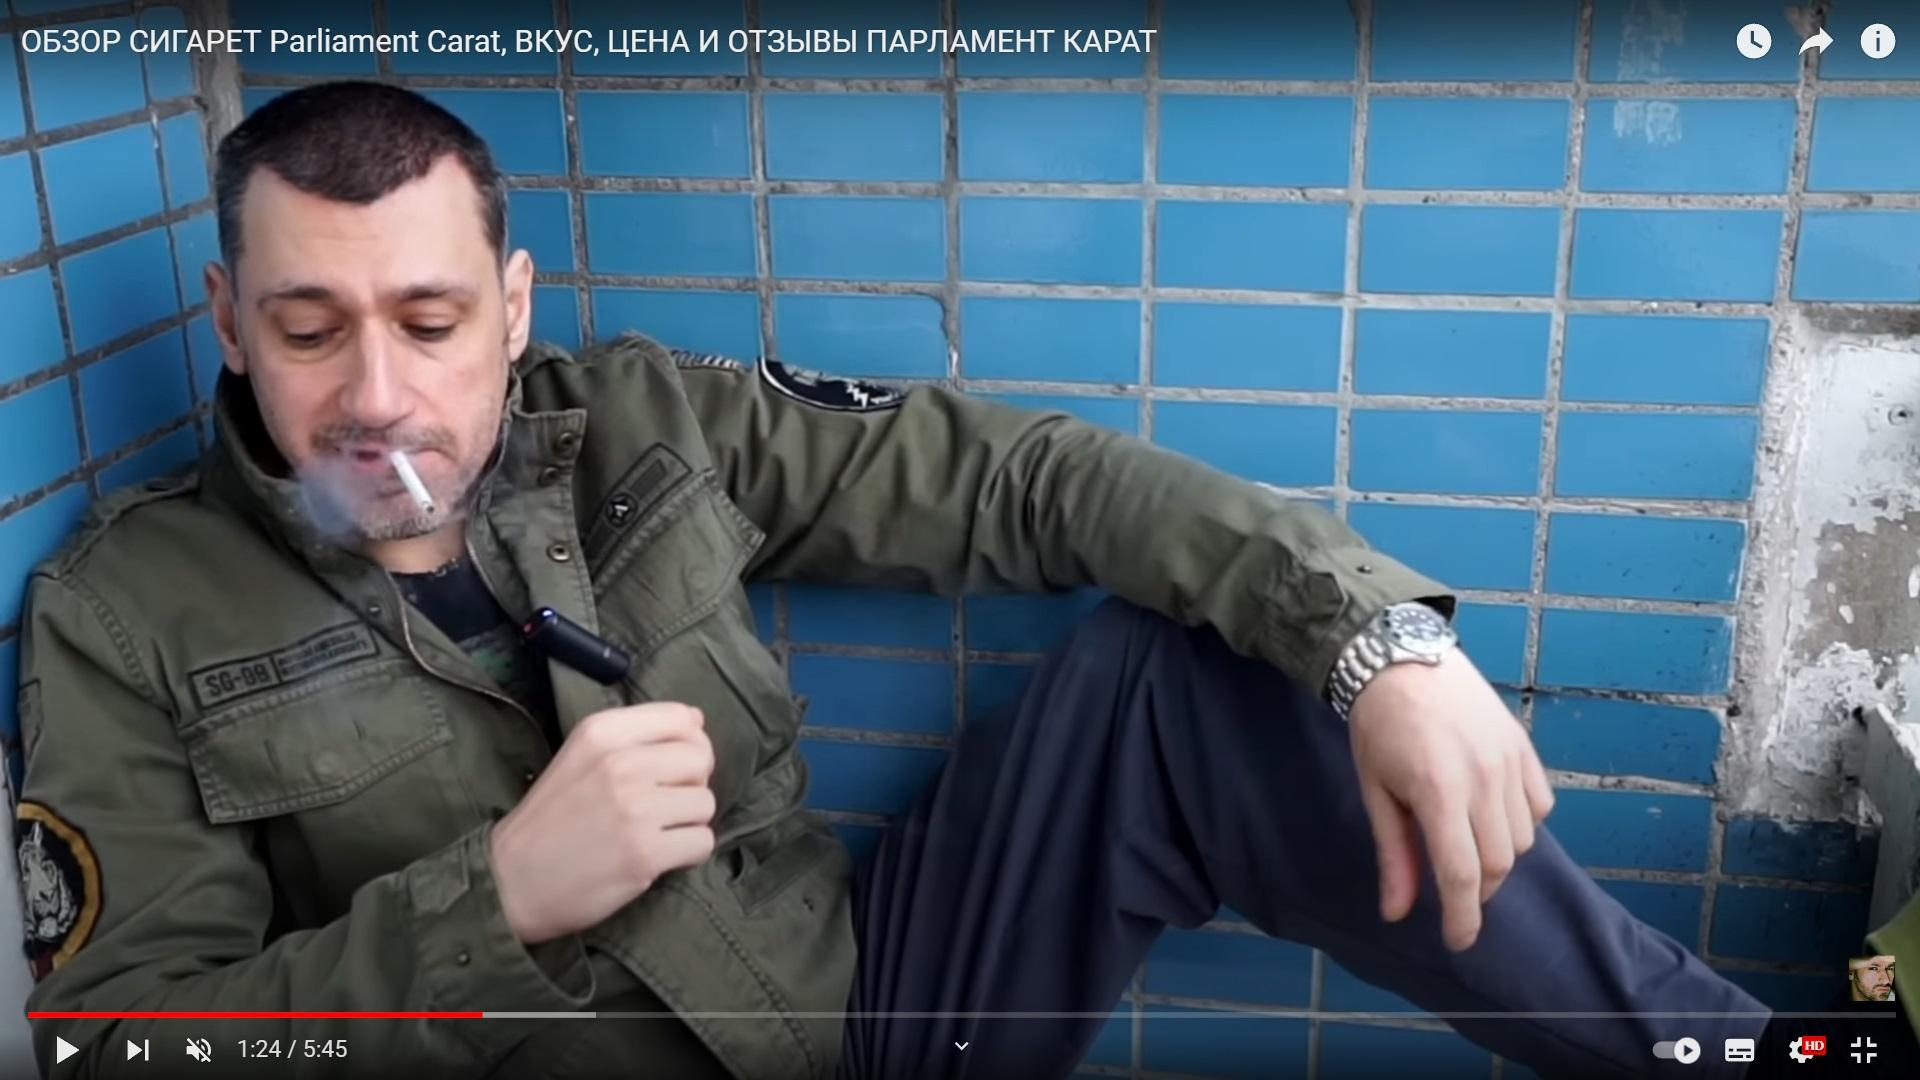cigarette: (386, 451, 435, 514)
